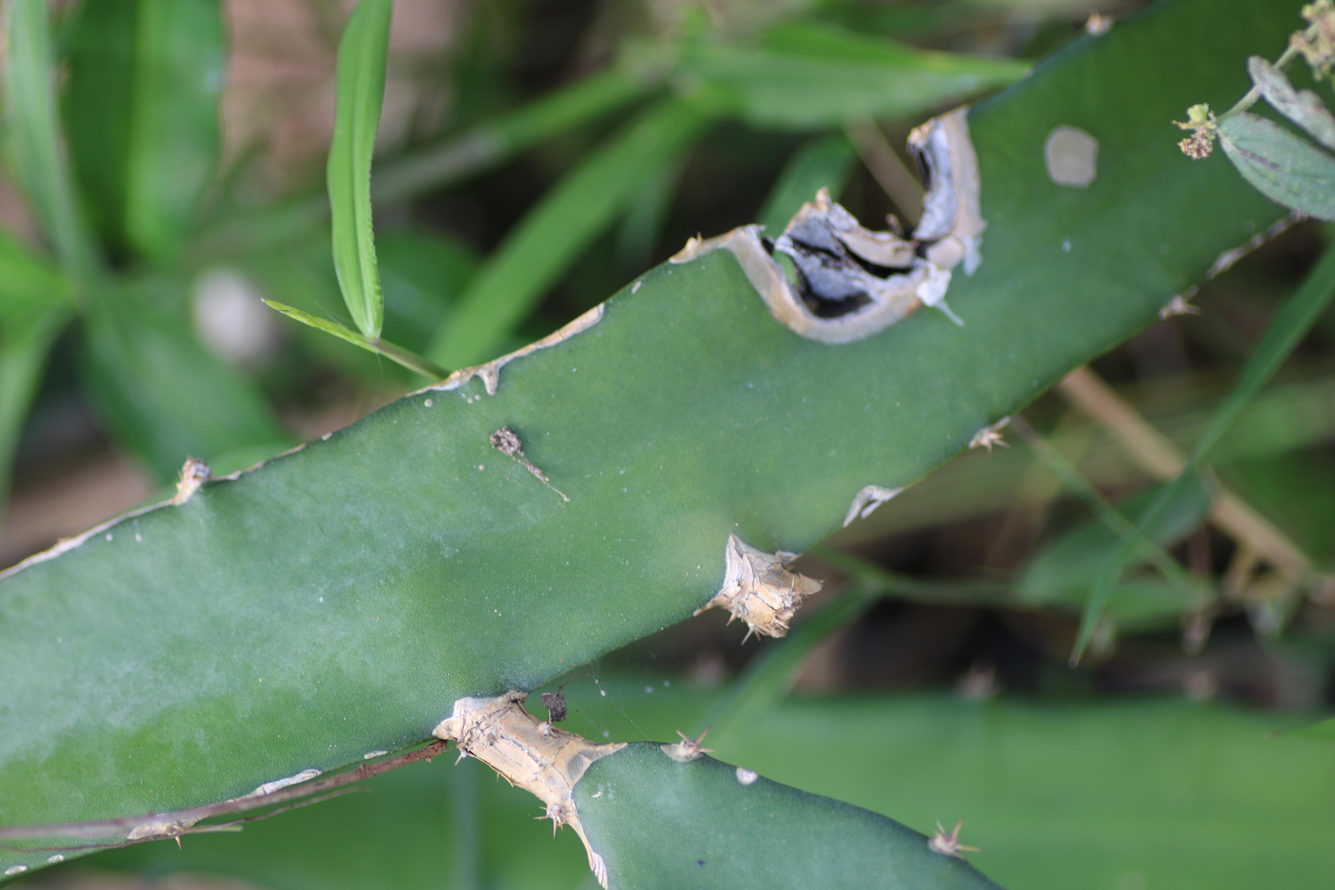stemcanker: (654, 96, 1002, 360), (420, 679, 629, 854), (693, 528, 824, 652), (1034, 119, 1105, 194)
